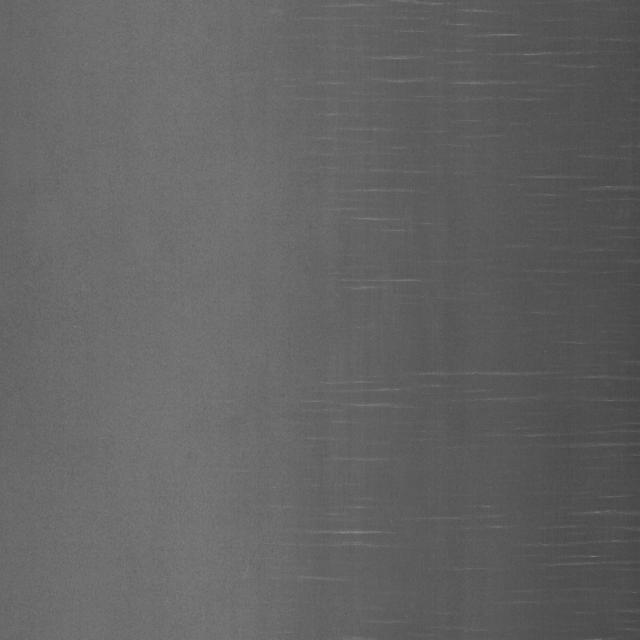punching_hole: (286, 59, 603, 590)
